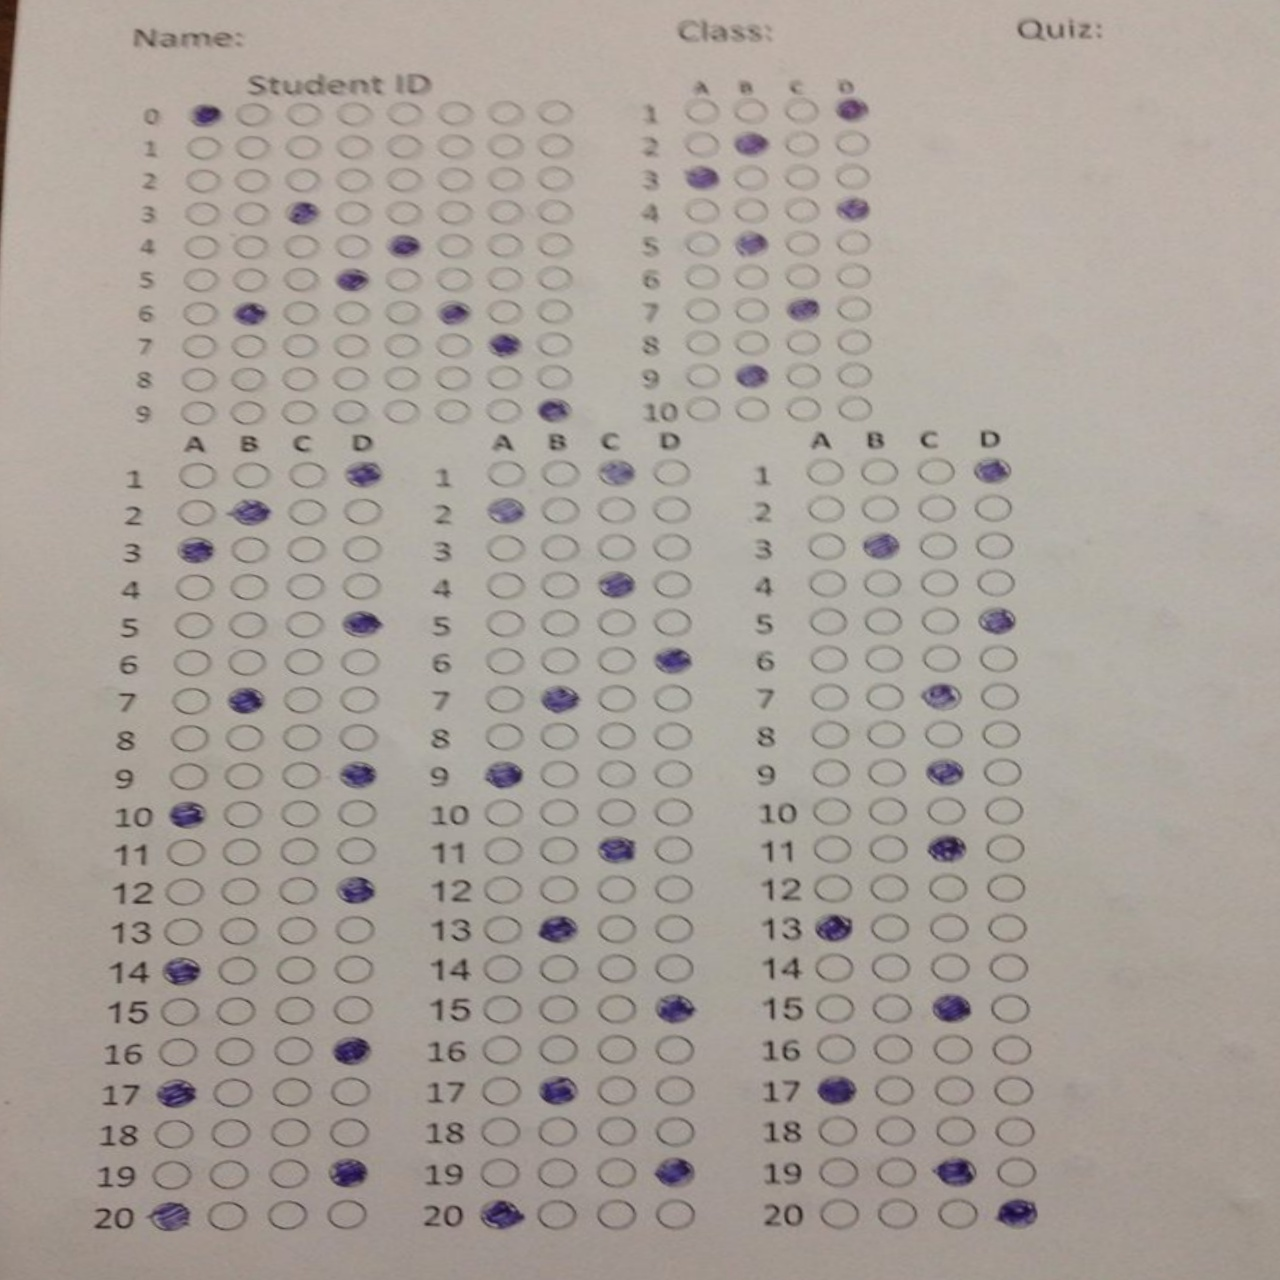not-c: (205, 1157, 253, 1190), (930, 1034, 978, 1065), (263, 1159, 313, 1189), (874, 1114, 918, 1148), (934, 1198, 982, 1228), (328, 994, 374, 1026), (648, 455, 694, 486), (591, 681, 636, 713), (649, 757, 695, 789), (876, 1194, 917, 1230), (652, 873, 696, 905), (869, 951, 913, 982), (990, 1074, 1035, 1105), (148, 1158, 193, 1189), (651, 495, 696, 525), (985, 913, 1030, 944), (811, 1032, 857, 1062), (593, 607, 640, 636), (649, 1034, 696, 1063), (218, 836, 261, 867), (150, 1117, 193, 1149), (282, 496, 327, 526), (274, 873, 319, 904), (272, 953, 316, 983), (155, 995, 199, 1026), (654, 1198, 699, 1228), (998, 1116, 1039, 1149), (282, 459, 328, 489), (209, 1036, 254, 1065), (591, 913, 636, 942), (655, 1118, 701, 1148), (811, 796, 853, 828), (989, 1033, 1032, 1064), (277, 721, 320, 751), (272, 915, 315, 946), (332, 914, 375, 945), (273, 994, 316, 1024), (210, 1076, 253, 1107), (325, 1117, 368, 1148), (482, 531, 525, 561), (651, 835, 694, 865), (652, 913, 695, 944), (535, 952, 578, 982), (654, 1074, 697, 1104), (595, 1197, 639, 1227), (263, 1200, 309, 1228), (333, 952, 373, 985), (813, 990, 853, 1023), (327, 1077, 372, 1107), (265, 1118, 309, 1148), (321, 1199, 366, 1228), (536, 721, 580, 750), (479, 1075, 524, 1104), (866, 798, 911, 828), (935, 1117, 980, 1146), (654, 682, 695, 714), (595, 1075, 636, 1107), (479, 1116, 520, 1148), (930, 951, 971, 982), (871, 1032, 912, 1063), (998, 1156, 1039, 1187), (169, 685, 211, 715), (651, 606, 693, 636), (481, 799, 526, 828), (594, 1116, 636, 1146), (536, 1156, 578, 1186), (921, 719, 964, 749), (809, 874, 855, 903), (277, 761, 320, 790), (275, 836, 319, 865), (536, 836, 579, 865), (536, 873, 579, 903), (479, 992, 523, 1021), (533, 1115, 577, 1144), (816, 1159, 859, 1189), (874, 1073, 913, 1105), (271, 1034, 311, 1065), (204, 1201, 248, 1230), (593, 495, 638, 523), (593, 758, 638, 787), (476, 1159, 520, 1187), (865, 912, 910, 940), (338, 723, 379, 754), (479, 722, 522, 751), (679, 127, 721, 156), (988, 954, 1030, 983), (869, 993, 911, 1022), (989, 993, 1032, 1022), (915, 457, 961, 484), (918, 606, 964, 633), (176, 499, 219, 527), (217, 877, 260, 905), (481, 457, 524, 485), (542, 459, 585, 488), (537, 568, 580, 597), (537, 758, 580, 787), (481, 835, 524, 863), (653, 954, 693, 985), (878, 1155, 918, 1185), (339, 533, 380, 563), (225, 610, 266, 639), (222, 799, 263, 829), (166, 838, 207, 867), (209, 1118, 250, 1148), (536, 493, 577, 523), (539, 531, 580, 560), (593, 798, 634, 828), (597, 952, 638, 981), (595, 993, 636, 1022), (595, 1034, 636, 1063), (593, 1156, 634, 1185), (983, 760, 1024, 789), (821, 1115, 862, 1144), (810, 954, 855, 981), (282, 535, 325, 563), (335, 799, 377, 828), (162, 878, 204, 906), (270, 1078, 312, 1107), (652, 722, 694, 750), (483, 952, 520, 983), (804, 456, 846, 484), (920, 568, 962, 597), (866, 642, 904, 674), (982, 717, 1020, 749), (986, 835, 1028, 863), (867, 874, 910, 903), (930, 874, 972, 903), (483, 683, 522, 714), (339, 573, 382, 600), (341, 496, 381, 525), (974, 493, 1014, 523), (806, 642, 846, 672), (935, 1076, 975, 1105), (821, 1200, 860, 1230), (171, 646, 212, 674), (539, 1197, 576, 1228), (222, 726, 264, 753), (213, 998, 256, 1024), (594, 723, 636, 750), (538, 799, 580, 826), (985, 876, 1027, 903), (285, 608, 324, 638), (867, 758, 906, 788), (918, 646, 964, 670), (229, 647, 268, 675), (593, 646, 636, 672), (927, 914, 971, 940), (282, 100, 324, 127), (179, 365, 220, 392), (226, 535, 267, 561), (172, 610, 213, 636), (282, 685, 324, 712), (215, 956, 256, 983), (651, 568, 692, 595), (481, 915, 522, 942), (479, 1036, 520, 1063), (859, 458, 900, 485), (806, 608, 847, 635), (812, 760, 853, 787), (983, 798, 1021, 828), (680, 363, 724, 388), (231, 132, 273, 158), (329, 165, 372, 191), (179, 168, 222, 193), (329, 297, 372, 322), (275, 297, 318, 322), (535, 198, 577, 224), (278, 799, 316, 828), (597, 533, 635, 561), (680, 395, 722, 421), (859, 495, 901, 520), (808, 721, 850, 747), (234, 101, 274, 128), (535, 331, 574, 358), (382, 365, 422, 392), (281, 647, 321, 674), (536, 1037, 576, 1064), (835, 263, 874, 290), (679, 297, 719, 324), (805, 568, 845, 595), (869, 835, 908, 862), (531, 363, 577, 387), (979, 566, 1015, 595), (384, 130, 425, 156), (333, 131, 374, 157), (181, 132, 222, 158), (533, 96, 574, 122), (481, 163, 522, 189), (531, 129, 572, 155), (431, 197, 472, 223), (178, 300, 219, 326), (230, 265, 271, 291), (227, 233, 268, 259), (533, 298, 574, 324), (172, 573, 213, 599), (335, 838, 376, 864), (538, 645, 579, 670), (282, 572, 320, 600), (223, 761, 260, 789), (483, 610, 520, 638), (655, 798, 693, 826), (599, 874, 636, 903), (331, 331, 369, 358), (156, 1039, 195, 1065), (484, 648, 523, 675), (782, 229, 821, 256), (928, 799, 967, 826), (434, 131, 476, 156), (433, 97, 475, 122), (328, 232, 370, 257), (382, 198, 424, 223), (215, 919, 257, 944), (811, 837, 853, 862), (339, 683, 374, 713), (481, 130, 520, 156), (482, 198, 522, 224), (280, 231, 320, 257), (225, 399, 265, 424), (169, 726, 209, 751), (540, 995, 577, 1023), (785, 196, 822, 224), (920, 530, 956, 558), (433, 232, 470, 259), (835, 331, 872, 358), (804, 493, 842, 520), (867, 720, 905, 747), (282, 132, 324, 157), (482, 97, 523, 122), (332, 198, 373, 223), (433, 164, 474, 189), (384, 165, 425, 190), (282, 164, 324, 189), (179, 265, 220, 290), (181, 232, 222, 257), (181, 200, 222, 225), (280, 265, 321, 290), (338, 648, 379, 673), (161, 920, 202, 945), (538, 608, 579, 633), (484, 232, 523, 258), (229, 366, 267, 392), (169, 763, 207, 789), (783, 328, 822, 354), (835, 361, 873, 387), (980, 644, 1019, 669), (981, 685, 1020, 710), (835, 125, 869, 155), (862, 685, 904, 708), (535, 163, 574, 188), (227, 199, 267, 224), (231, 166, 271, 191), (176, 333, 216, 358), (779, 97, 819, 122), (682, 197, 722, 222), (382, 399, 418, 425), (484, 876, 520, 903), (833, 161, 870, 188), (918, 495, 955, 520), (865, 571, 903, 597), (811, 685, 849, 710), (685, 94, 719, 122), (433, 267, 471, 292), (176, 462, 215, 486), (386, 297, 421, 324), (486, 365, 522, 392), (865, 607, 900, 634), (381, 333, 417, 359), (434, 362, 470, 388), (485, 571, 522, 597), (535, 266, 574, 290), (233, 464, 271, 489), (652, 535, 689, 559), (730, 263, 768, 287), (978, 531, 1015, 556), (482, 399, 523, 421), (335, 102, 370, 128), (331, 396, 366, 422), (681, 263, 716, 288), (383, 98, 420, 123), (229, 573, 265, 598), (734, 199, 770, 224), (804, 532, 840, 557), (226, 335, 268, 356), (331, 365, 365, 390), (731, 97, 765, 123), (787, 263, 821, 288), (535, 232, 573, 254), (431, 332, 470, 354), (435, 399, 474, 421), (682, 331, 719, 354), (383, 267, 421, 290), (279, 334, 316, 356), (486, 300, 522, 324), (784, 130, 819, 154), (835, 229, 870, 252), (731, 297, 767, 320), (282, 368, 316, 392), (685, 231, 719, 254), (835, 297, 869, 320), (731, 166, 769, 188), (784, 365, 822, 386), (733, 399, 770, 420), (485, 267, 520, 290), (278, 400, 313, 422), (181, 402, 212, 427), (784, 397, 821, 418), (731, 329, 765, 350), (837, 399, 870, 418), (782, 165, 816, 184)
taken-c: (474, 1194, 527, 1232), (329, 869, 381, 907), (646, 988, 697, 1027), (925, 989, 979, 1026), (532, 1070, 584, 1108), (335, 604, 384, 642), (155, 951, 203, 989), (220, 681, 271, 717), (147, 1198, 195, 1235), (922, 753, 971, 790), (340, 454, 386, 491), (973, 602, 1023, 636), (225, 493, 272, 530), (649, 641, 696, 678), (810, 910, 858, 945), (922, 830, 972, 864), (478, 756, 525, 791), (171, 532, 219, 566), (152, 1075, 200, 1109), (536, 680, 584, 714), (968, 452, 1016, 486), (931, 1157, 982, 1189), (996, 1196, 1041, 1232), (857, 526, 903, 561), (326, 1155, 373, 1189), (481, 493, 527, 527), (813, 1073, 860, 1107), (332, 758, 381, 790), (328, 1034, 374, 1068), (537, 911, 583, 945), (919, 679, 965, 713), (380, 230, 428, 261), (727, 229, 775, 260), (653, 1155, 697, 1189), (183, 98, 229, 131), (430, 297, 476, 328), (165, 797, 207, 831), (594, 568, 641, 599), (594, 455, 638, 488), (281, 195, 324, 227), (832, 195, 877, 224), (594, 835, 636, 865), (679, 162, 724, 190), (331, 265, 372, 294), (486, 328, 527, 358), (731, 361, 772, 390), (230, 298, 268, 328), (731, 130, 771, 158), (835, 94, 871, 124), (535, 395, 572, 424), (787, 297, 824, 324)
